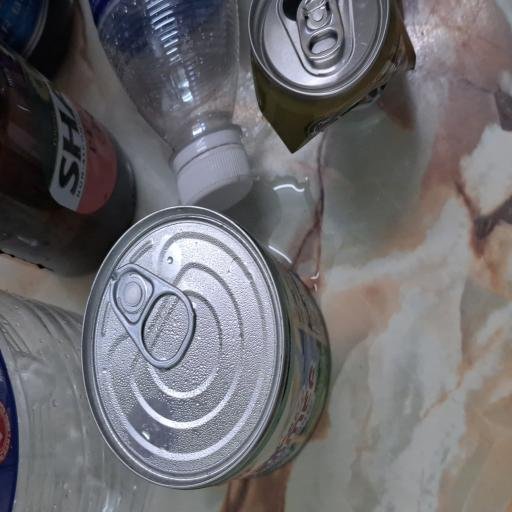can: (17, 108, 231, 446), (268, 328, 384, 512)
glass bottle: (176, 0, 344, 182)
plastic bottle: (0, 0, 164, 199), (276, 122, 384, 318)
plastic bottle cap: (223, 238, 279, 338)
pop tab: (106, 148, 188, 261), (334, 393, 384, 460)
